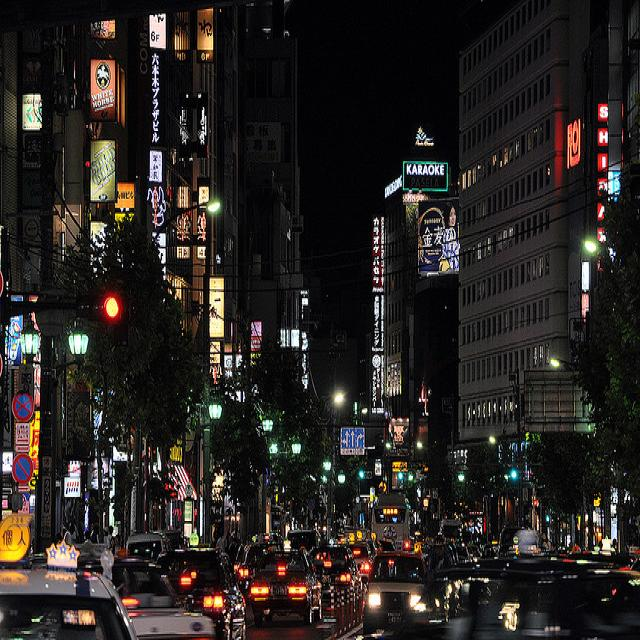Vehicle: (78, 556, 218, 640), (0, 559, 143, 640), (243, 548, 323, 638), (176, 578, 247, 640), (366, 556, 429, 624), (309, 546, 360, 600), (236, 539, 281, 599), (370, 493, 411, 553), (180, 550, 227, 588), (154, 547, 192, 593), (126, 533, 166, 562), (351, 542, 372, 582), (287, 530, 318, 553)
